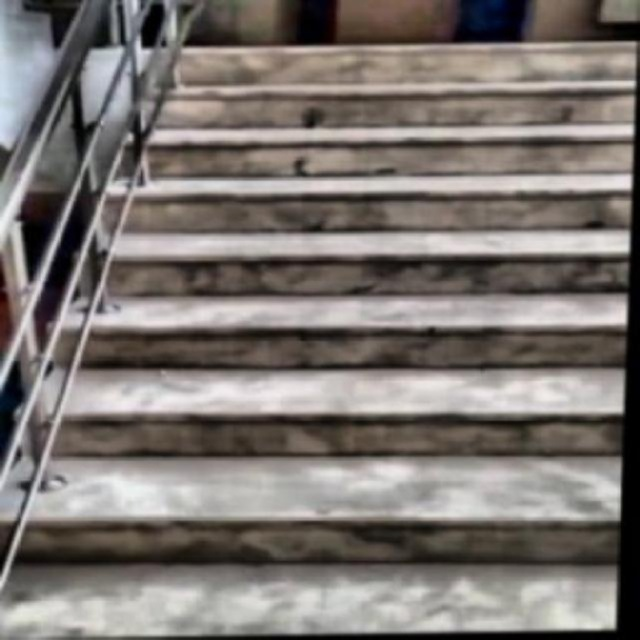stair: (21, 43, 637, 639)
